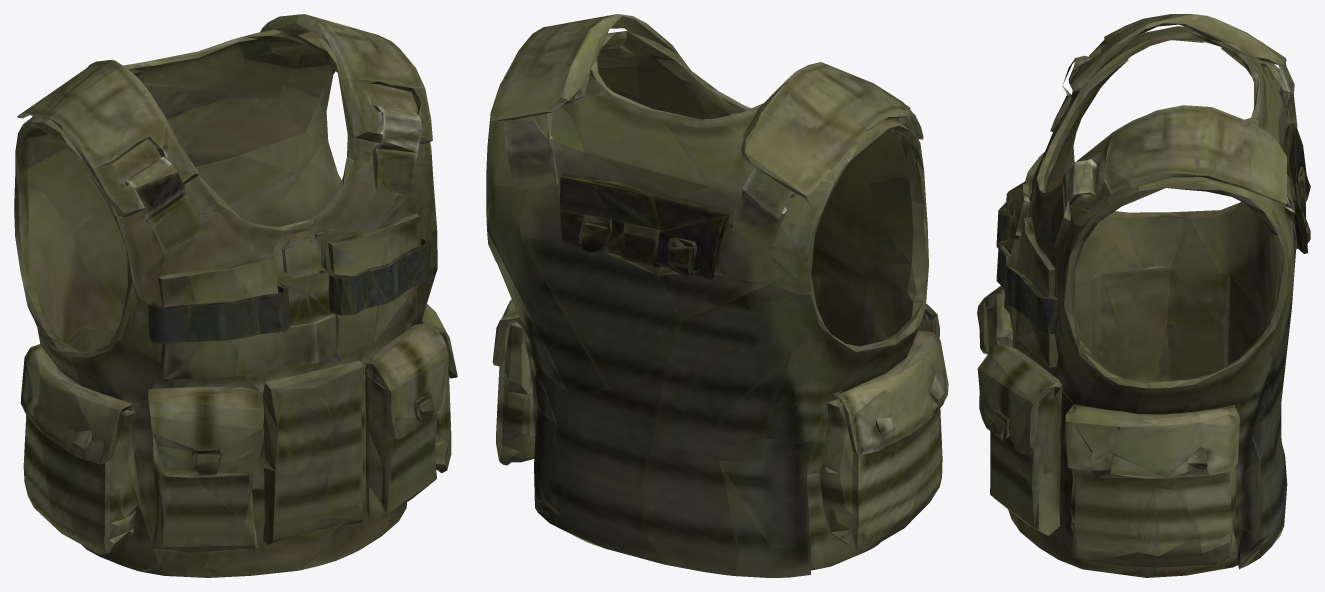
File: vest.glb
The picture shows the model from 3 angles, left to right: view 1: azimuth 30°, elevation 25°; view 2: azimuth 150°, elevation 25°; view 3: azimuth 270°, elevation 25°; orthographic projection. The views are drawn at different scales.
Bounding box in the file's own units: 1.64 × 1.9 × 1.28.
Materials: 1 (1 with a texture image).
